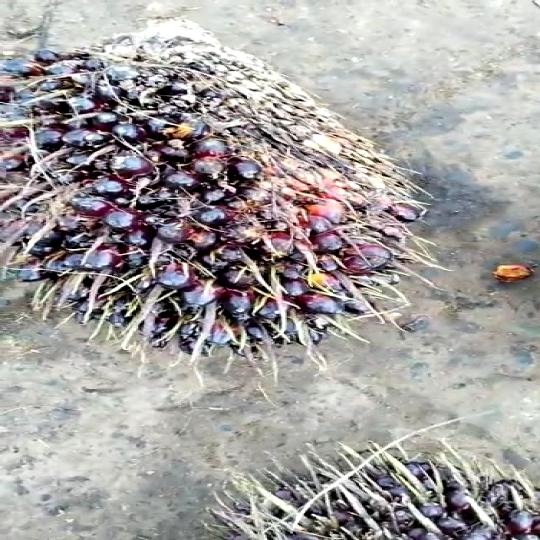mentah: (0, 19, 426, 358)
